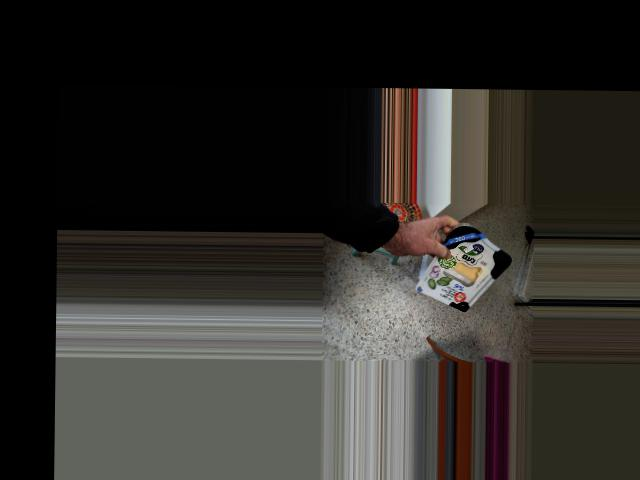cheese: (422, 220, 510, 321)
